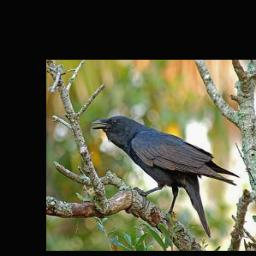Crow: (91, 115, 242, 239)
